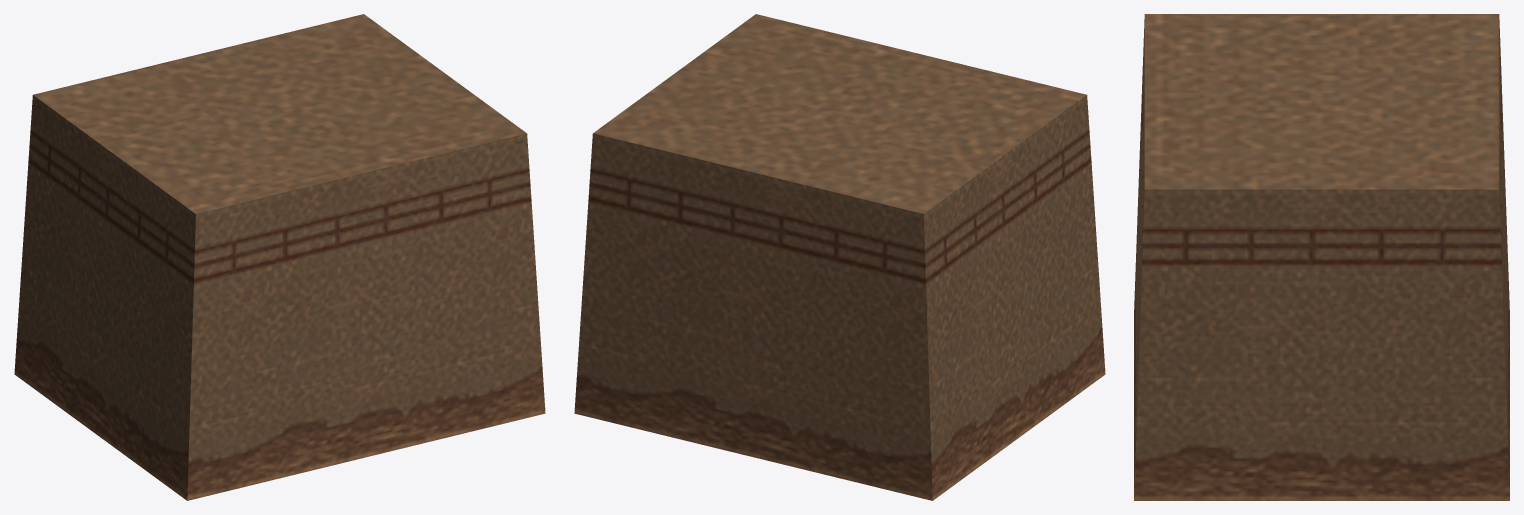
Rendered from b_qy_chengqiang03_lod2.FBX.
The picture shows the model from 3 angles, left to right: view 1: azimuth 30°, elevation 25°; view 2: azimuth 150°, elevation 25°; view 3: azimuth 270°, elevation 25°; orthographic projection. The views are drawn at different scales.
Parts seen in each view (by area): view 1: b_qy_chengqiang03_lod2; view 2: b_qy_chengqiang03_lod2; view 3: b_qy_chengqiang03_lod2.
Part boxes in pixels (x1,y1,x2,y2): b_qy_chengqiang03_lod2: (14, 14, 545, 500); b_qy_chengqiang03_lod2: (574, 14, 1105, 500); b_qy_chengqiang03_lod2: (1134, 14, 1509, 500).
Size of the model in its own units: 22.81 by 17.03 by 19.07.
